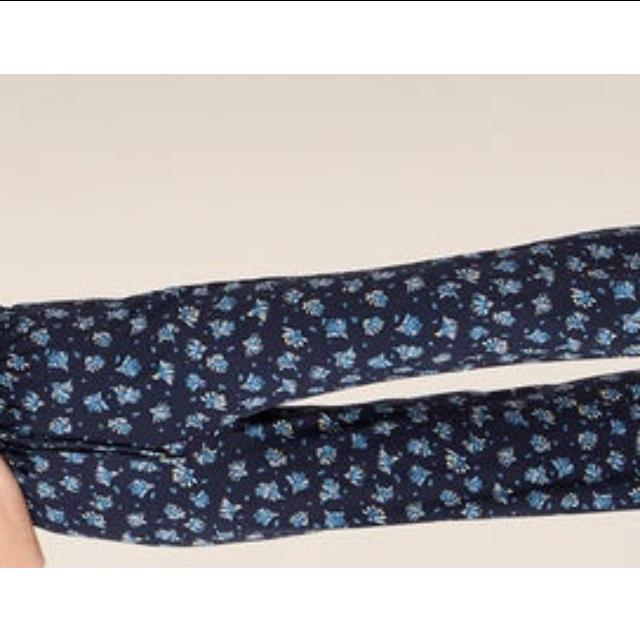cotton: (3, 296, 210, 434)
